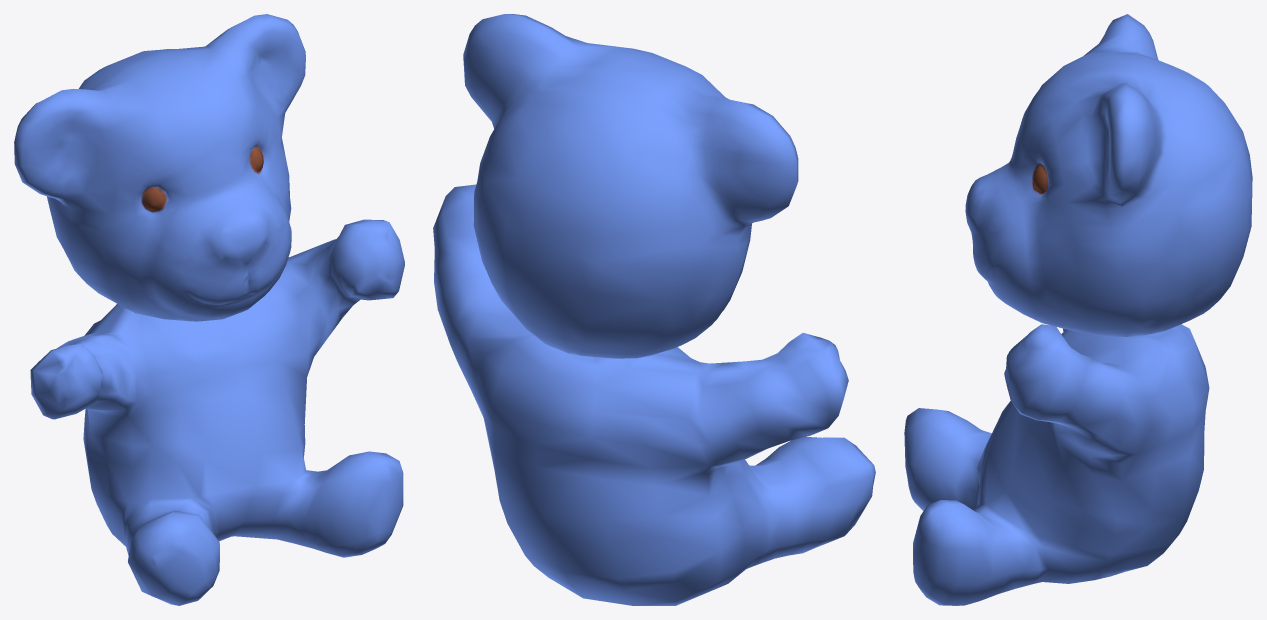
Rendered from Teddy Bear.fbx.
3 views of the same model, side by side, from view 1: azimuth 30°, elevation 25°; view 2: azimuth 150°, elevation 25°; view 3: azimuth 270°, elevation 25° (orthographic). The views are drawn at different scales.
Visible parts, largest first — view 1: Teddy Bear low body, Teddy Bear low head; view 2: Teddy Bear low body, Teddy Bear low head; view 3: Teddy Bear low head, Teddy Bear low body.
Part boxes in pixels (x1=…): Teddy Bear low body: x1=30, y1=219, x2=404, y2=605; Teddy Bear low head: x1=14, y1=14, x2=305, y2=321; Teddy Bear low body: x1=433, y1=184, x2=875, y2=605; Teddy Bear low head: x1=463, y1=14, x2=798, y2=358; Teddy Bear low head: x1=965, y1=14, x2=1252, y2=336; Teddy Bear low body: x1=904, y1=324, x2=1209, y2=605.
Size of the model in its own units: 1.32 by 1.06 by 1.72.
